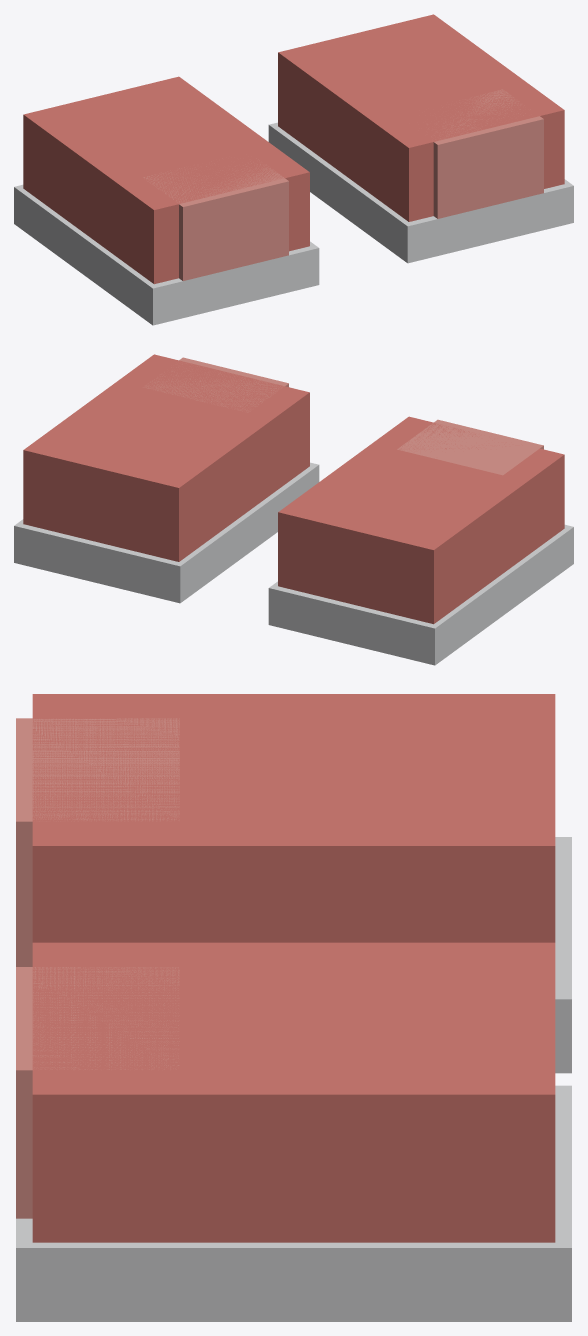
Rendered from av_shoes_red_sneakers.glb.
3 renders of one model, top to bottom at view 1: azimuth 30°, elevation 25°; view 2: azimuth 150°, elevation 25°; view 3: azimuth 270°, elevation 25°, orthographic. The views are drawn at different scales.
Size of the model in its own units: 0.595 by 0.15 by 0.34.
